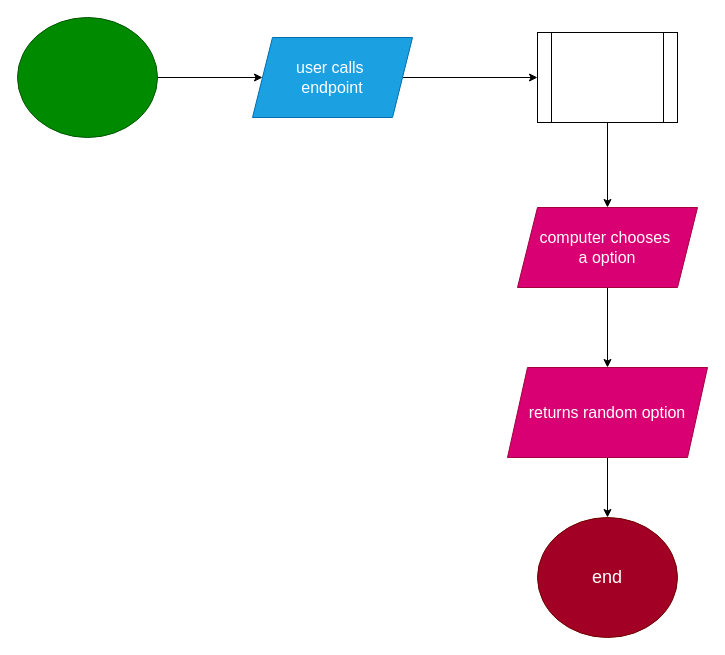
This 725x655 diagram has some shape labels left out. Here are the shapes that lost their labels. From the top down, the centre of each, then its label:
the point at 87,77: start
the point at 607,77: generate a random number
